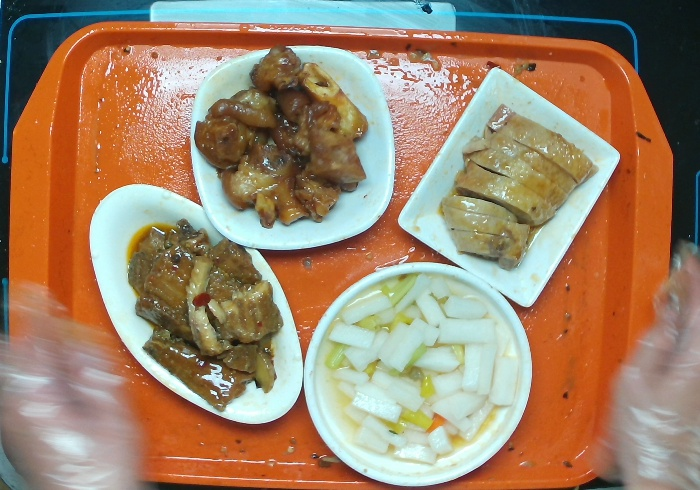HZYJPL-Si_Fang_Die: (395, 66, 622, 308)
HZYJPL-Si_Fang_Yuan_Die: (188, 44, 397, 250)
HZYJPL-Xiao_Yu_Die: (88, 182, 304, 425)
HZYJPL-Xiao_Yuan_Die: (302, 260, 534, 487)
